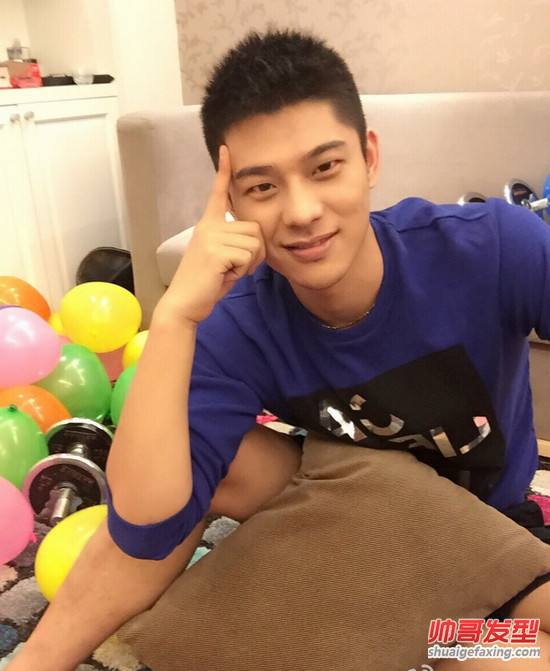person: (151, 43, 550, 390)
